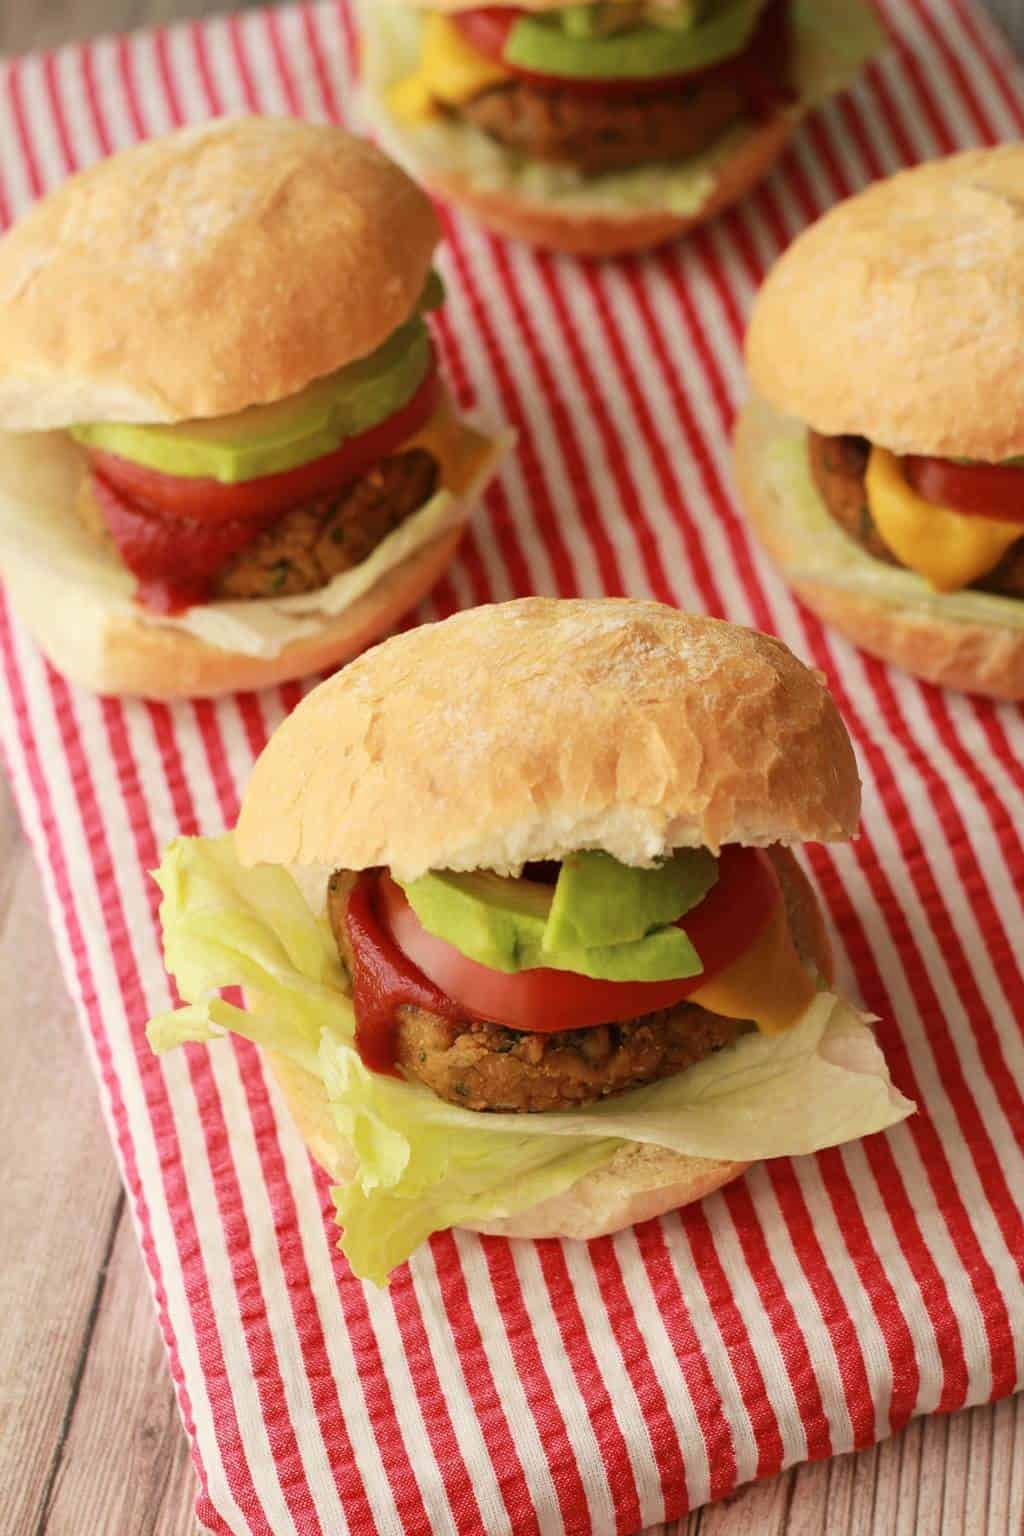hamburger_buns: (181, 570, 888, 877), (1, 85, 459, 446), (696, 137, 1024, 485)
